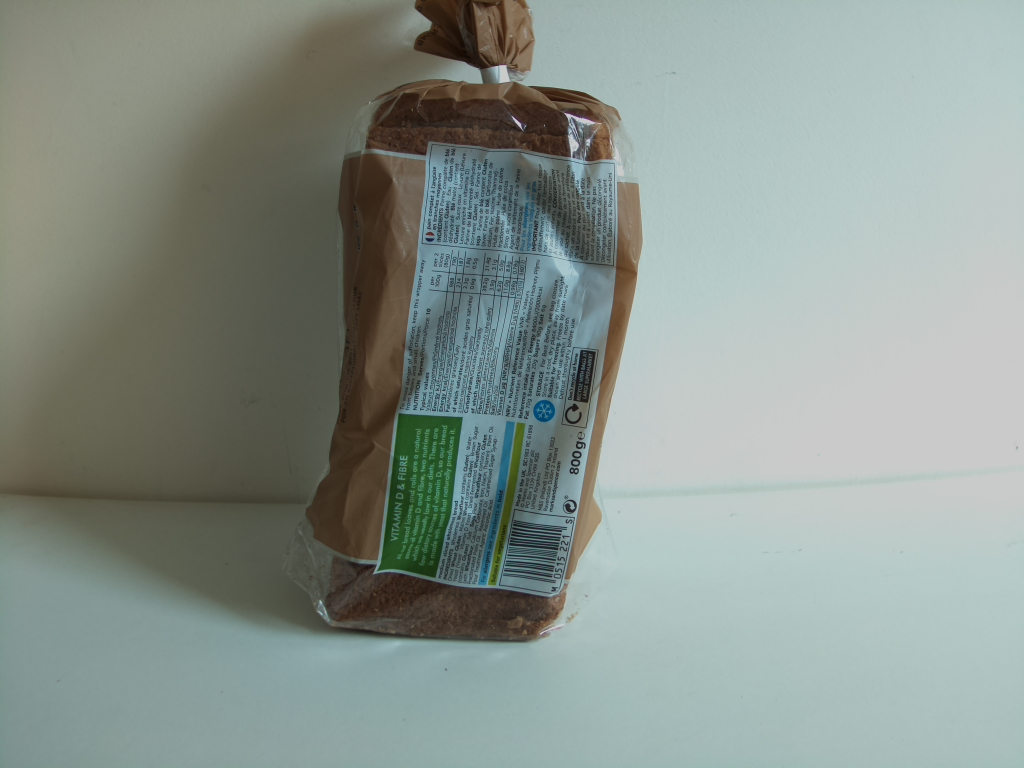bread: (301, 1, 649, 649)
